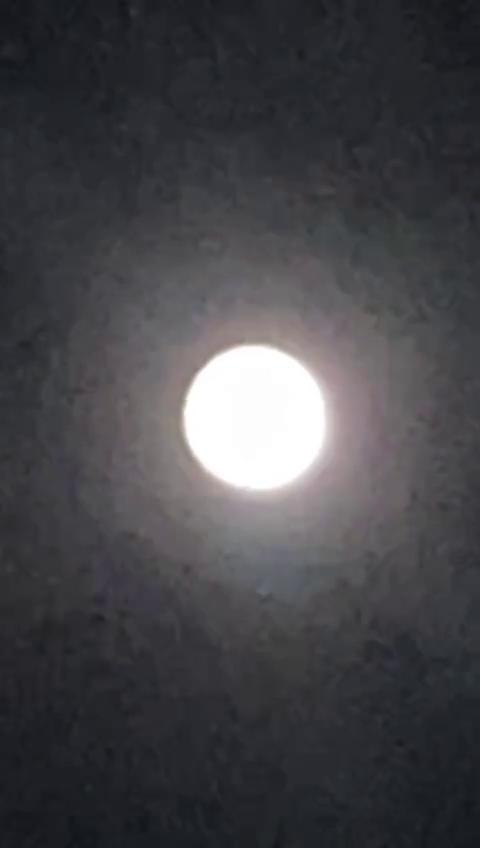moon: (166, 307, 344, 498)
